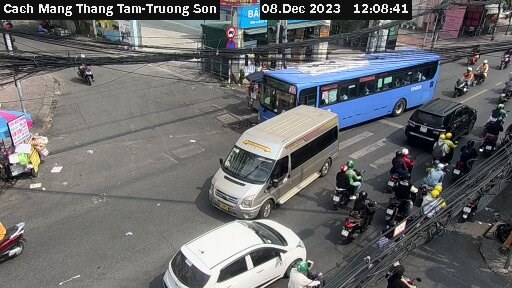bus: (260, 48, 437, 118)
car: (205, 104, 342, 216), (160, 218, 316, 288), (407, 97, 481, 143)
motorbike: (325, 199, 379, 245), (1, 203, 34, 271), (370, 149, 419, 186), (325, 164, 370, 201), (417, 130, 457, 164), (70, 51, 102, 88), (447, 67, 480, 101), (384, 192, 414, 229), (468, 57, 497, 83)
